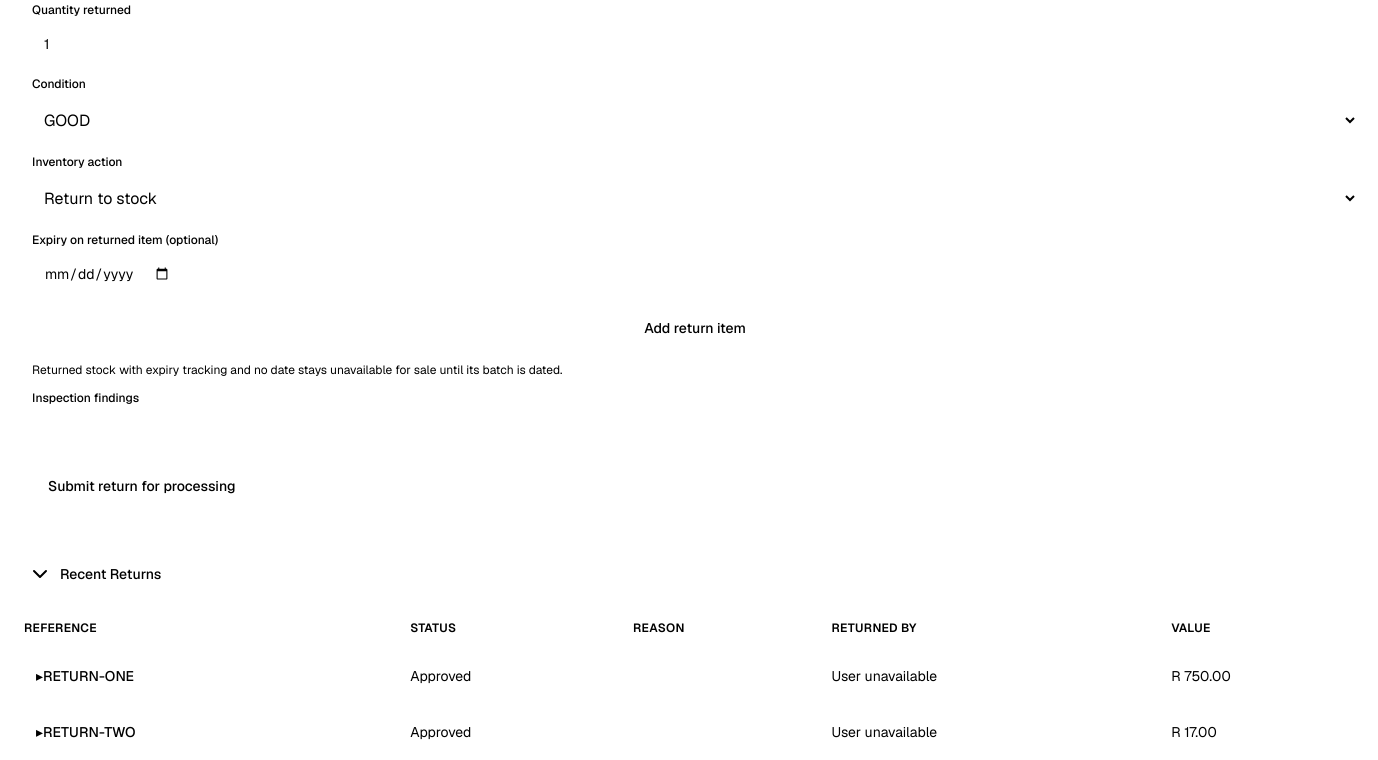
Scenario: clears refund fields when switching returns and uses that return's amount/reference
(page scrolled)
Step 1. Click the button "▸ RETURN-ONE" → (85, 676), box [24,658,146,694]
(page scrolled)
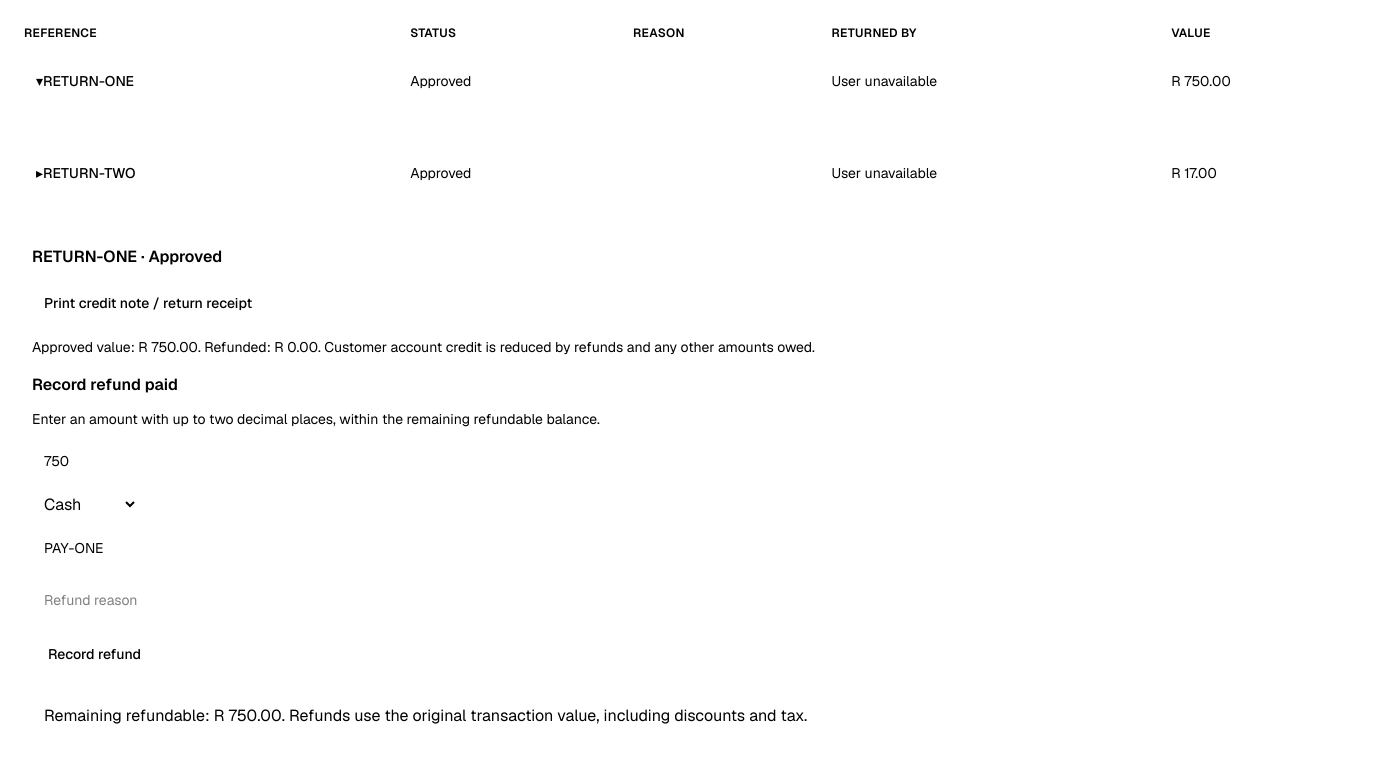
Step 2. Replace the text in the number field named "Refund amount" with "5" → (695, 461), box [32,441,1358,481]
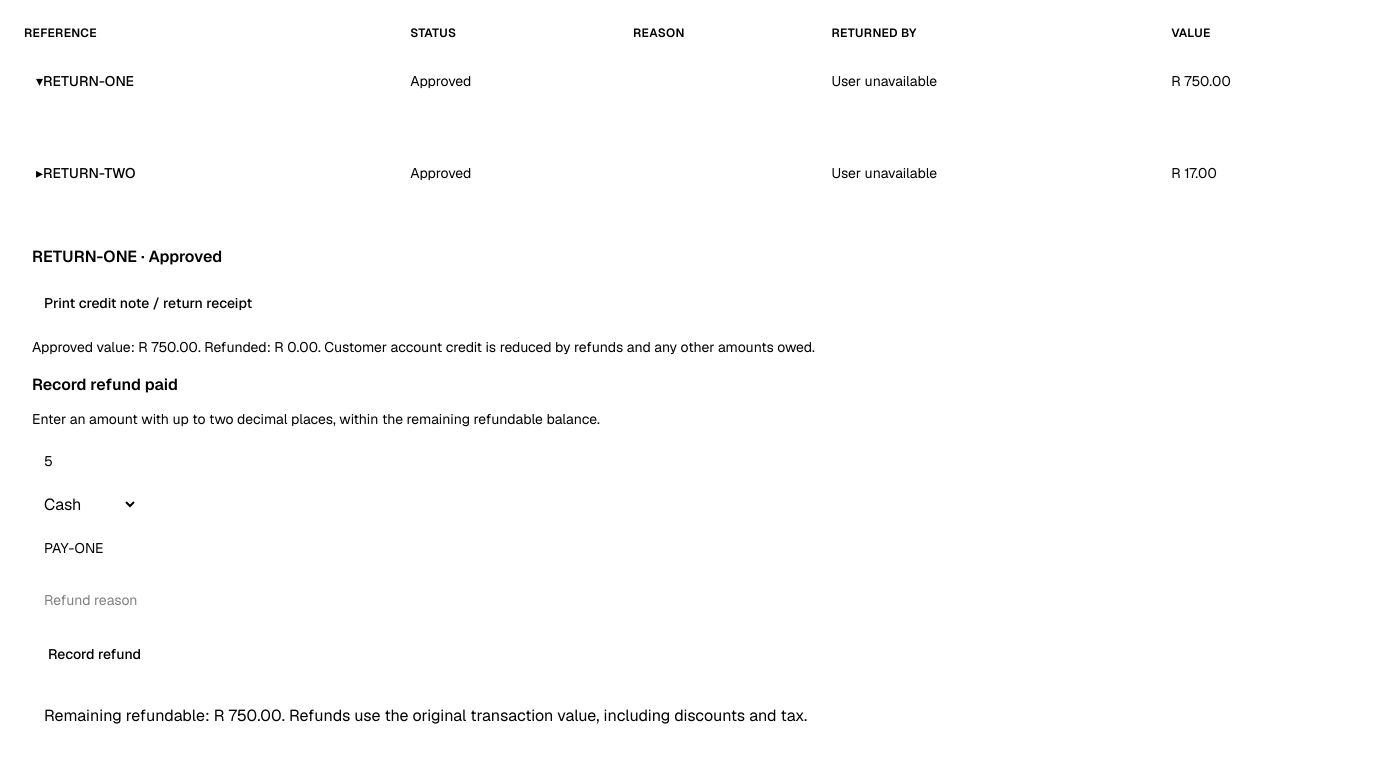
Step 3. Type "Old reason" into the field labelled "Refund reason" → (695, 600), box [32,580,1358,620]
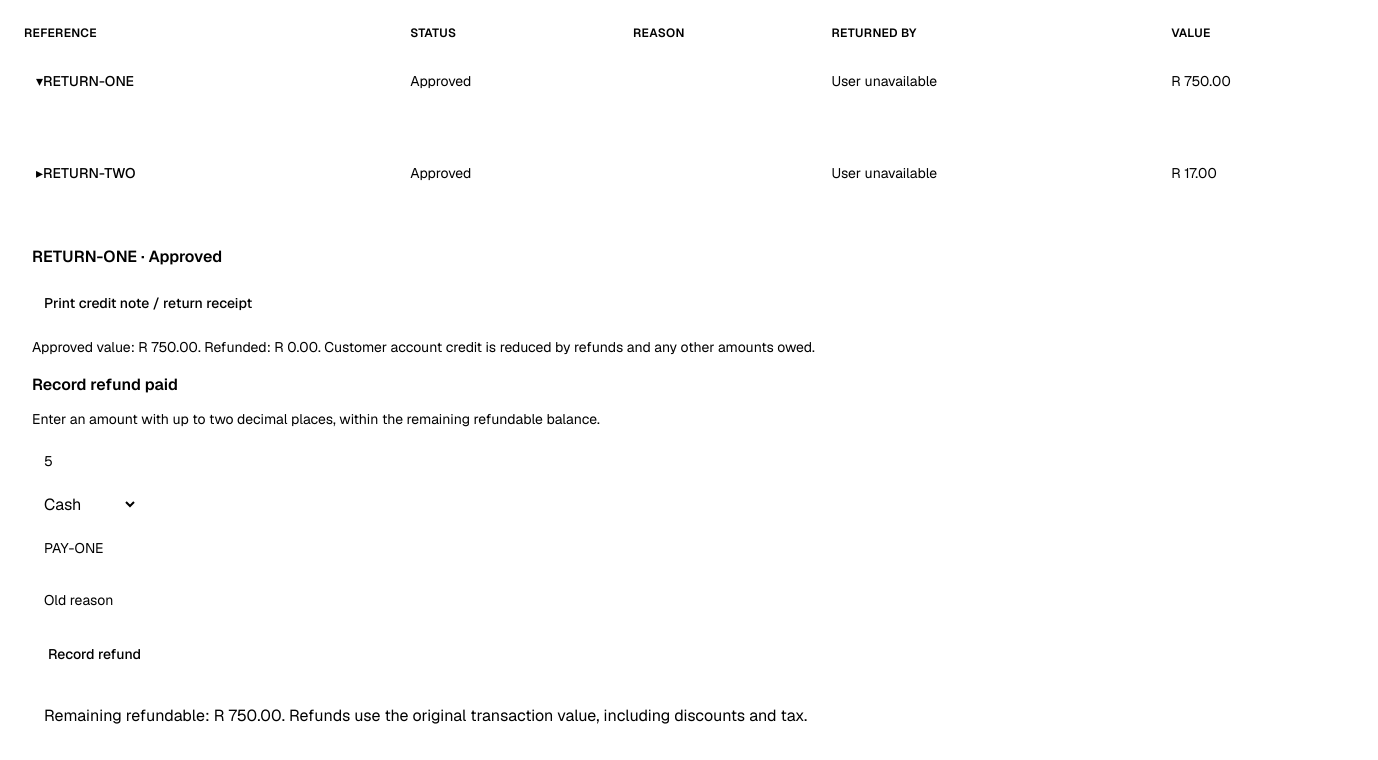
Step 4. Replace the text in the field named "Refund payment reference" with "Old reference" → (695, 548), box [32,528,1358,568]
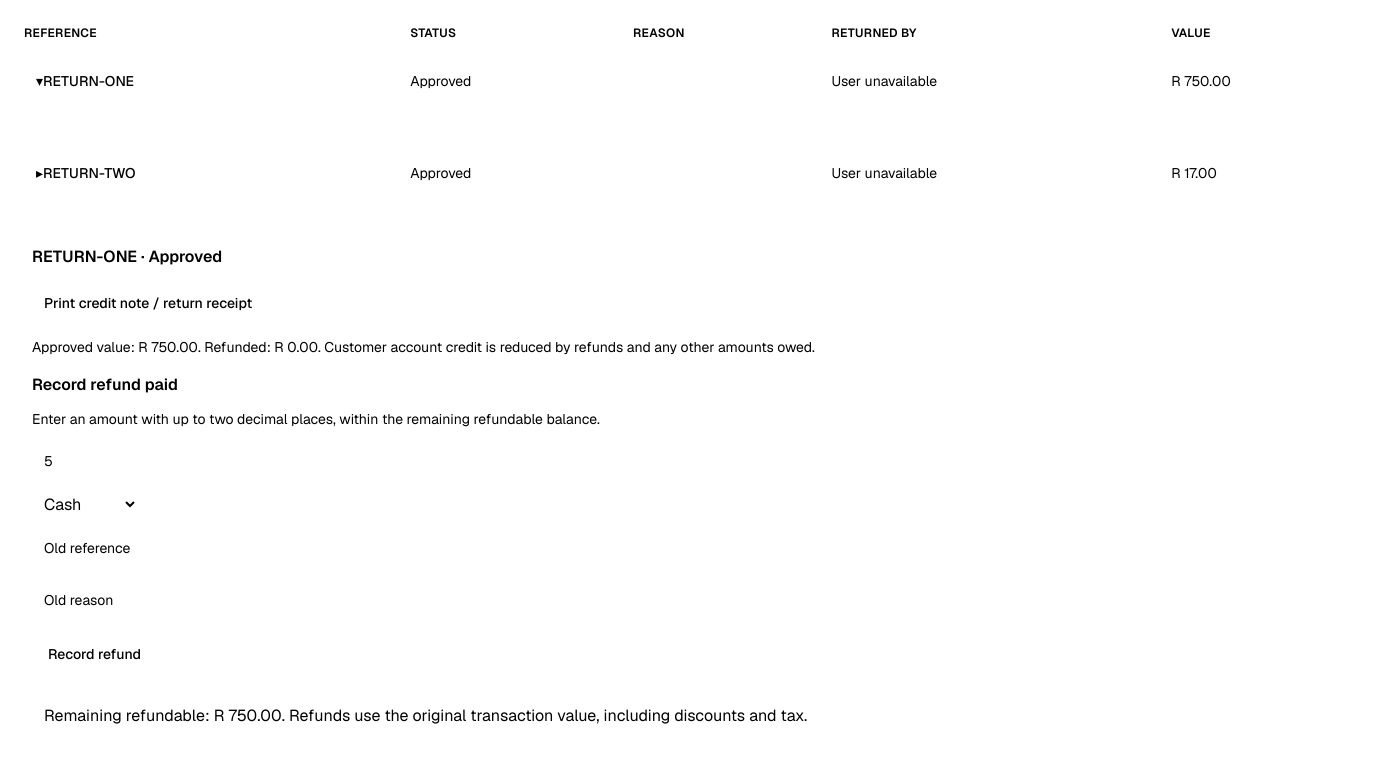
Step 5. Click the button "▸ RETURN-TWO" → (86, 173), box [24,155,148,191]
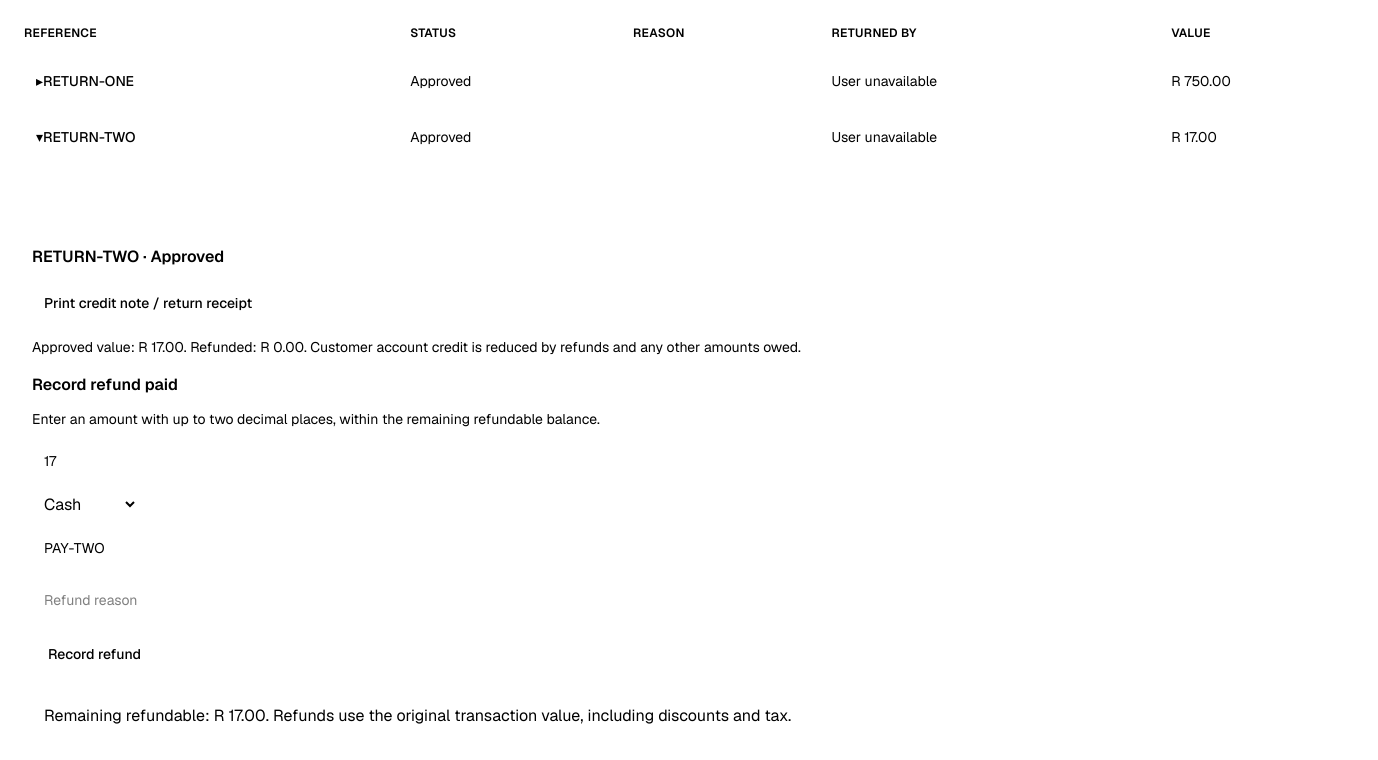
Check: the number field named "Refund amount" holds "17", box [32,441,1358,481]
Check: the field labelled "Refund reason" is empty, box [32,580,1358,620]
Check: the field named "Refund payment reference" holds "PAY-TWO", box [32,528,1358,568]
